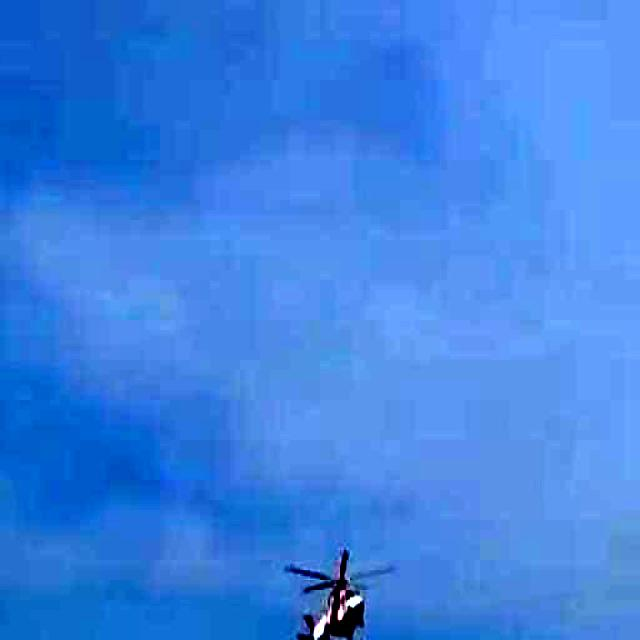drone: (279, 546, 395, 640)
